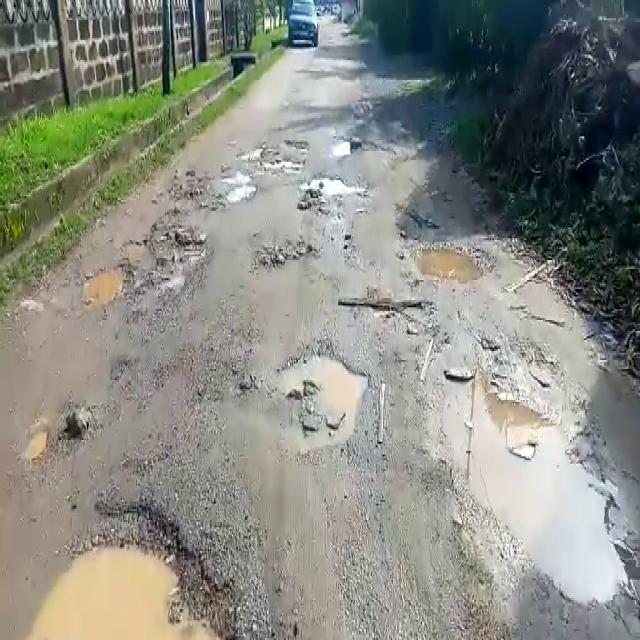Pothole: (428, 367, 631, 603), (27, 492, 246, 640), (100, 221, 212, 310), (276, 345, 374, 445), (410, 235, 498, 282), (341, 293, 441, 331), (82, 264, 134, 308), (256, 237, 318, 268), (295, 178, 350, 212), (303, 171, 369, 198), (211, 170, 259, 206), (245, 147, 309, 170)
